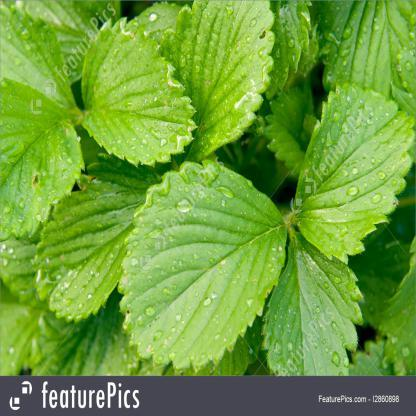Strawberry leaf: (112, 155, 296, 370), (296, 82, 415, 256), (70, 26, 204, 164), (257, 230, 363, 380)
